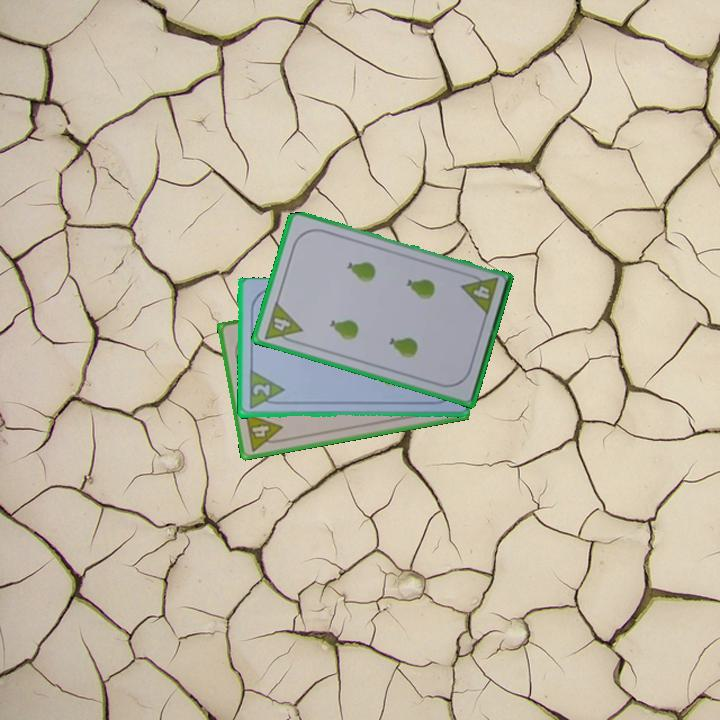2p: (249, 381, 272, 399)
4p: (261, 298, 305, 347), (458, 270, 501, 318), (242, 410, 287, 454)
